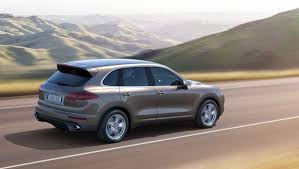car: (35, 58, 228, 142)
